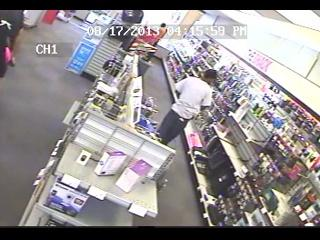Normal: (152, 68, 218, 146), (0, 20, 12, 78)
